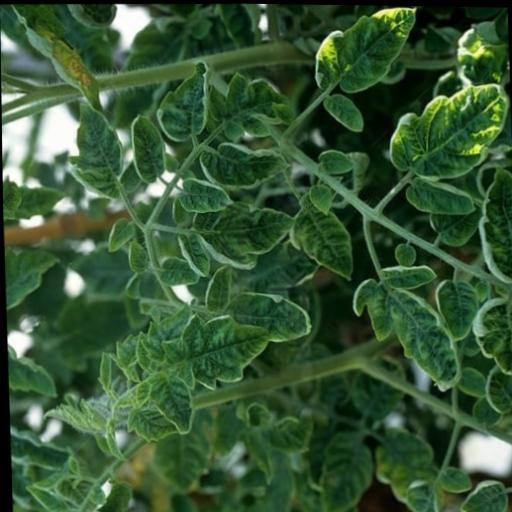Yellow Leaf Curl Virus: (346, 262, 459, 393), (387, 77, 512, 179), (198, 259, 319, 347), (305, 4, 419, 96), (155, 309, 274, 391), (189, 195, 295, 274), (62, 95, 127, 203), (202, 68, 286, 142), (282, 198, 354, 280), (197, 134, 293, 192), (153, 57, 213, 143), (312, 430, 374, 512), (477, 161, 512, 290), (467, 294, 512, 381), (431, 273, 480, 341), (403, 177, 478, 220), (128, 111, 168, 188), (144, 373, 194, 434), (175, 175, 235, 215), (120, 403, 177, 443), (317, 91, 364, 136)
